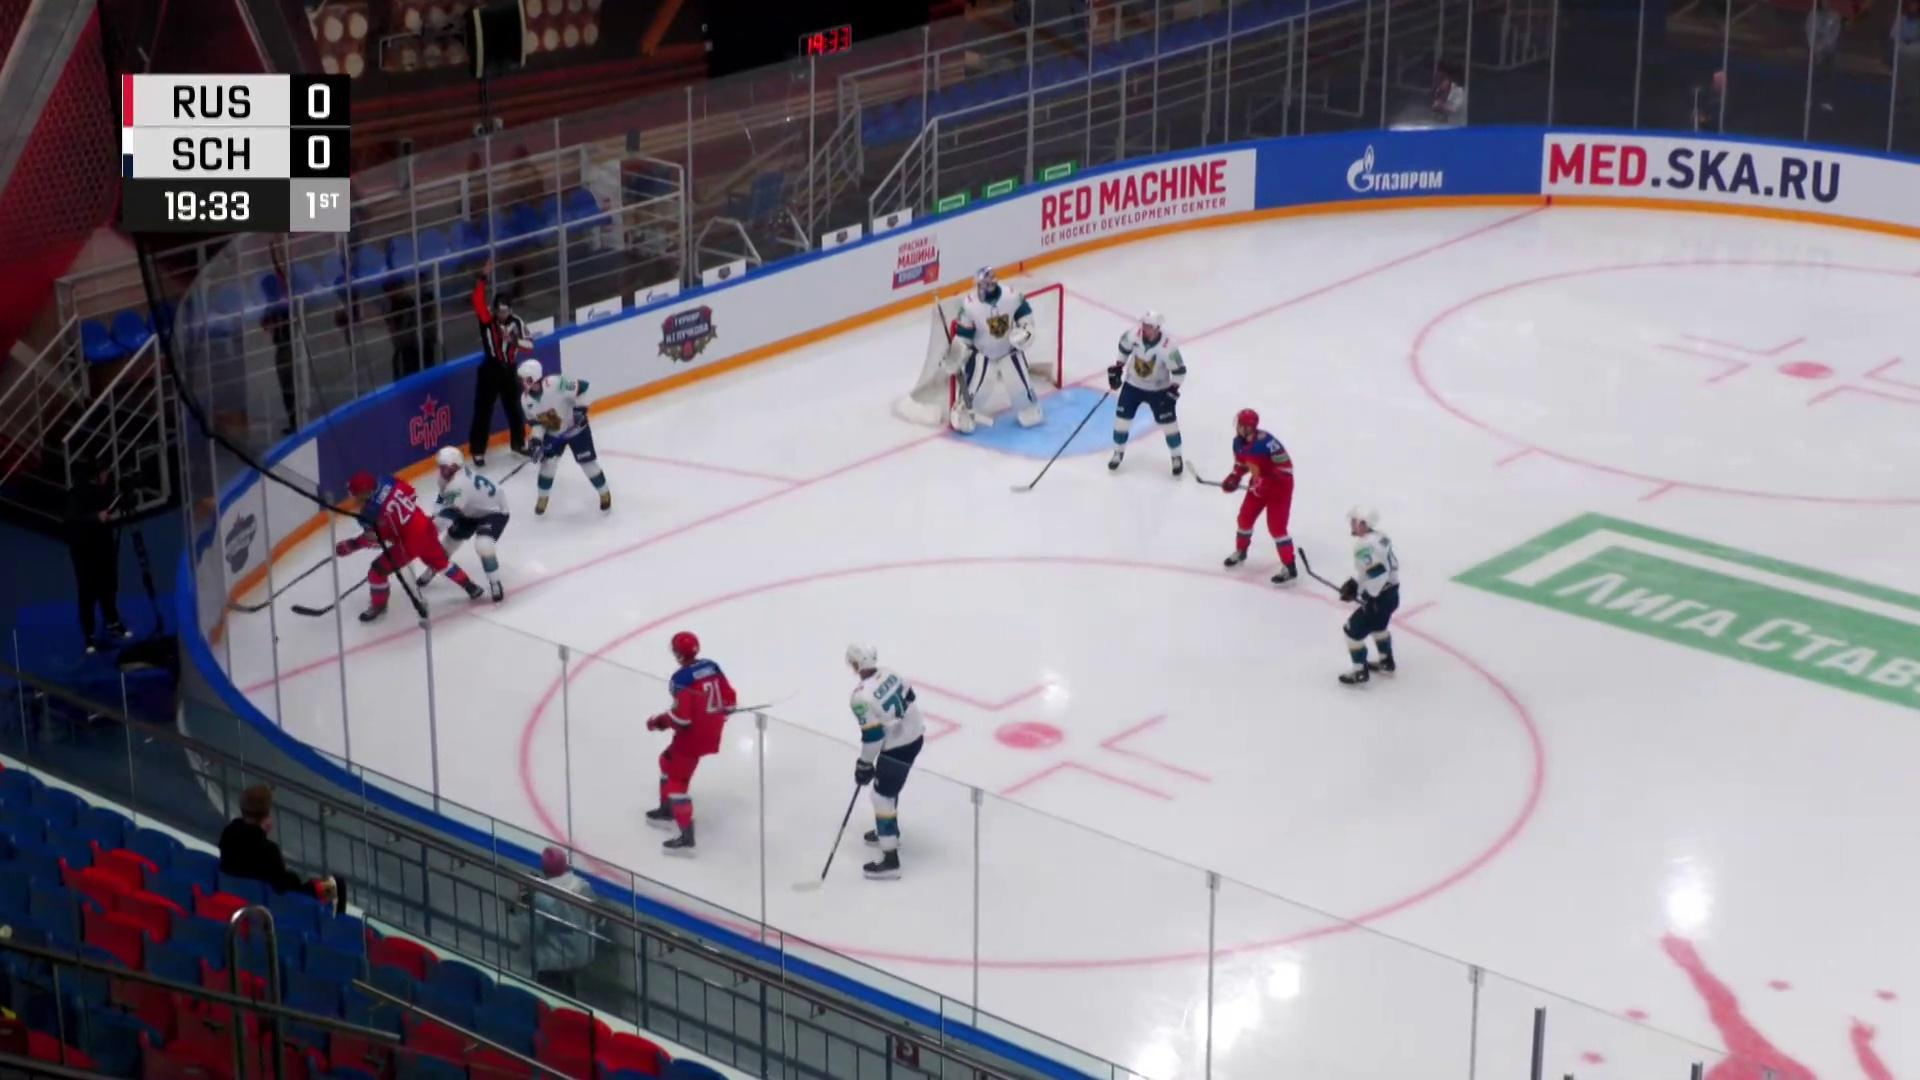ball: (273, 636, 281, 644)
